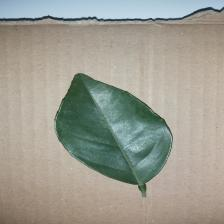healthy: (53, 84, 181, 192)
